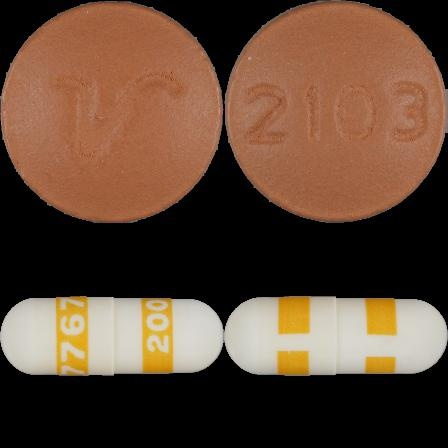68788-0748: (0, 0, 224, 224)
